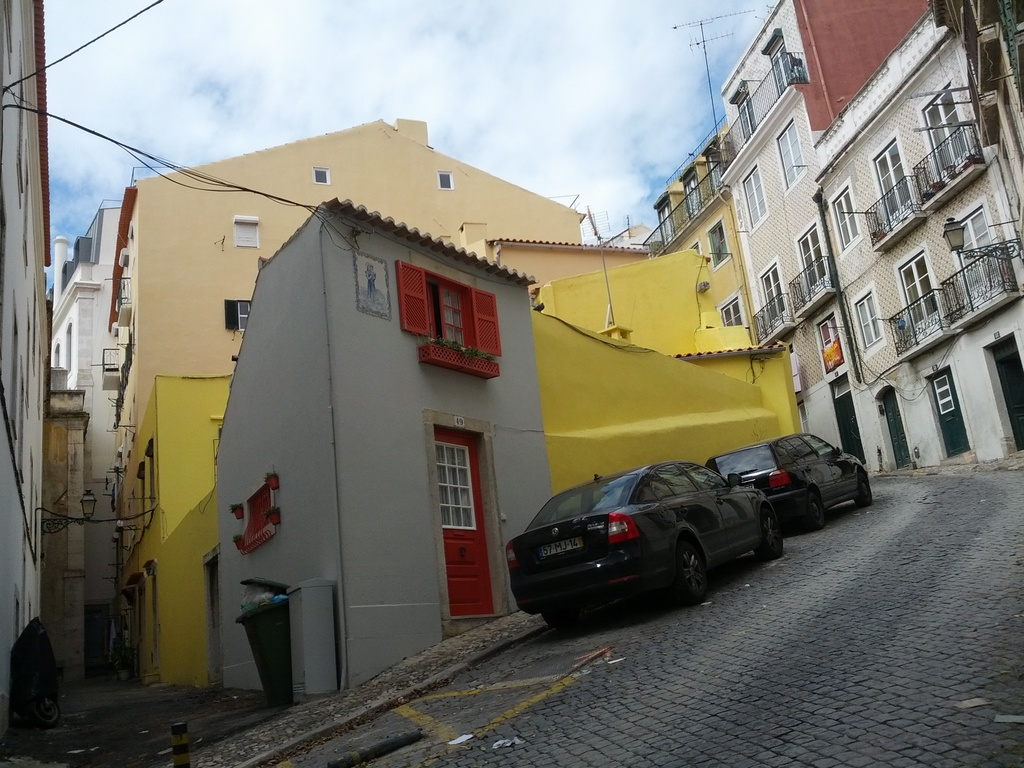Wheel: (664, 533, 713, 605), (755, 508, 783, 557), (807, 492, 826, 528), (856, 474, 872, 504)
